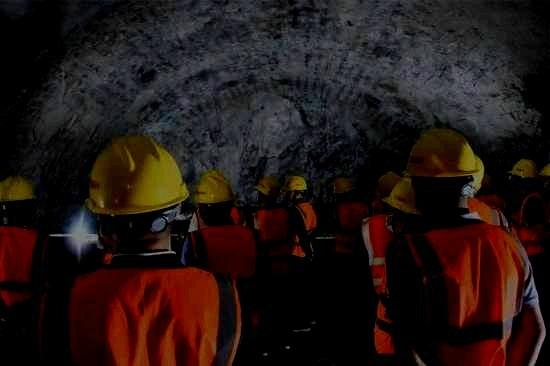helmet: (84, 132, 189, 251), (407, 127, 480, 209), (193, 169, 236, 222), (381, 177, 421, 222), (1, 176, 37, 225), (463, 154, 485, 200), (255, 177, 280, 207), (282, 175, 307, 203), (508, 158, 537, 181), (375, 172, 401, 195), (333, 178, 355, 201)
